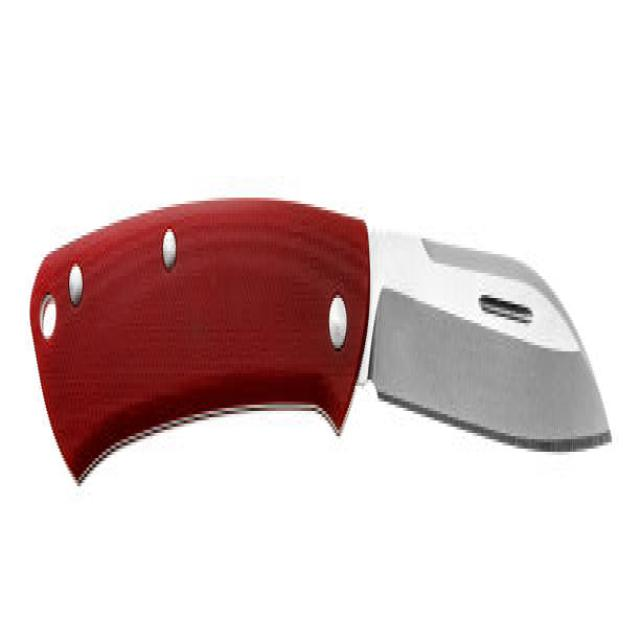knife: (23, 182, 614, 503)
